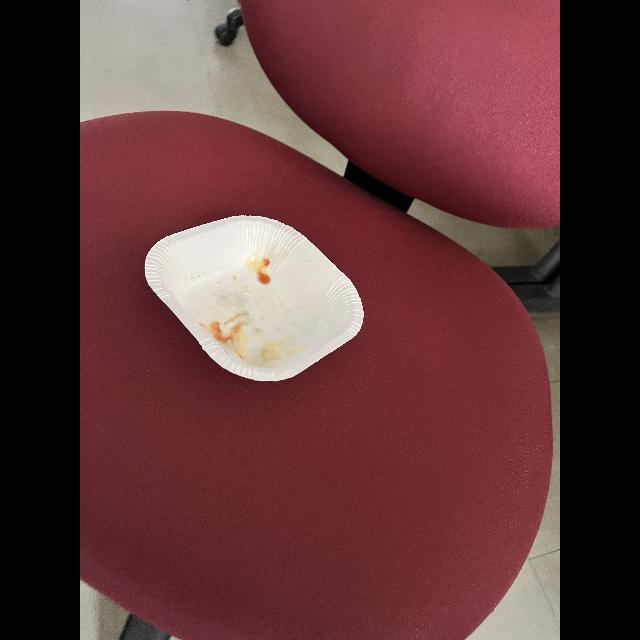cardboard_bowl: (140, 204, 364, 384)
